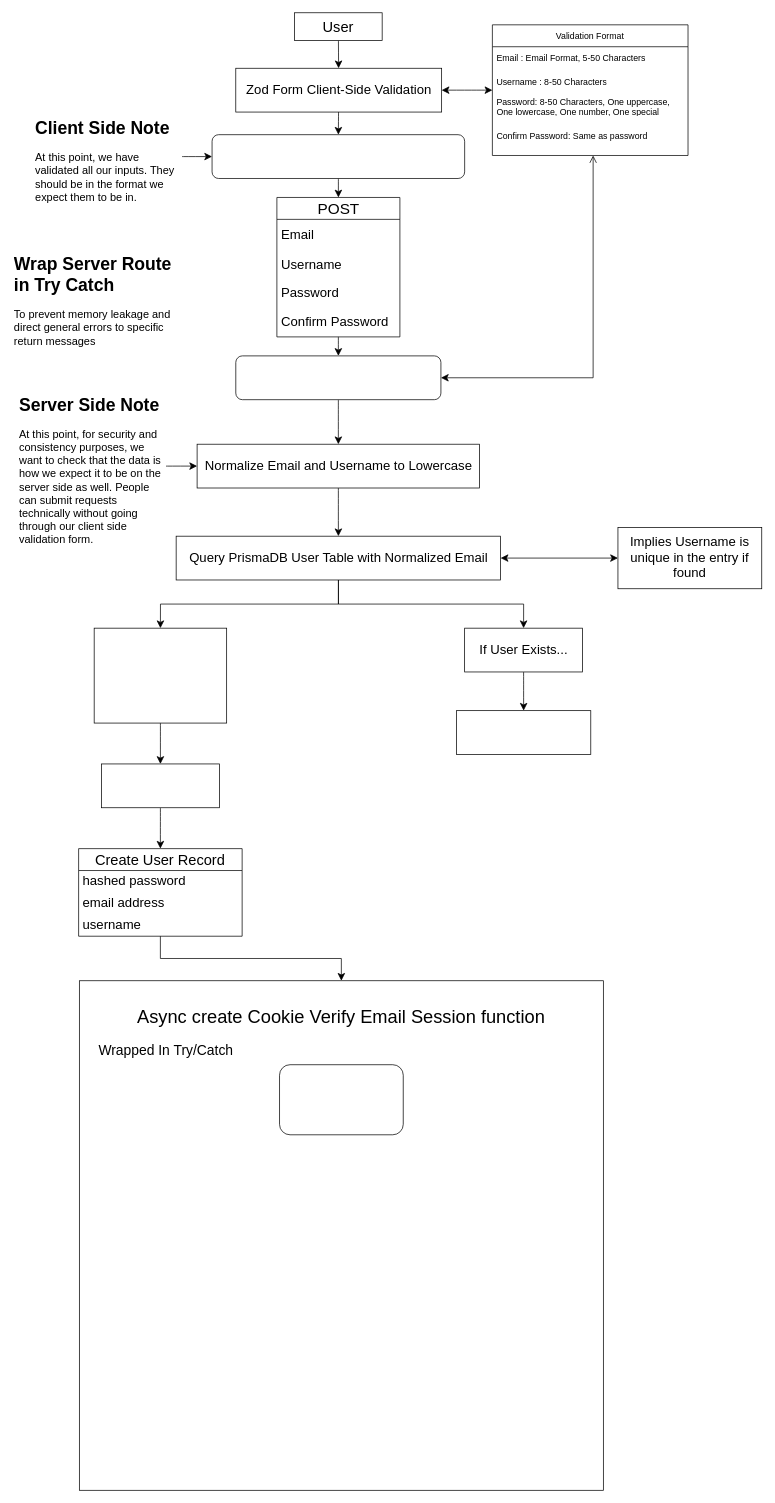
The diagram is 775 pixels wide and 1503 high, and some of its shapes have lost their labels. Each missing label, with the centre of its shape:
async fetch /api/auth/createUser: the point at 338,156
Hash Password: the point at 160,785
If User D.N.E: Query Is Null, Proceed with execution: the point at 160,675
Return Error: User already Exists: the point at 523,732
Zod Server-Side Validation: the point at 338,377
